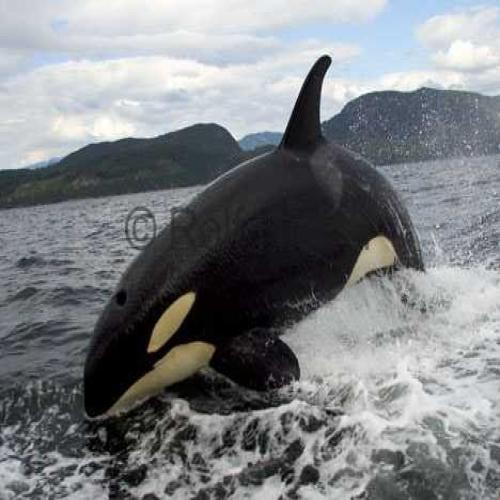killer_whale-endangered: (68, 62, 440, 434)
